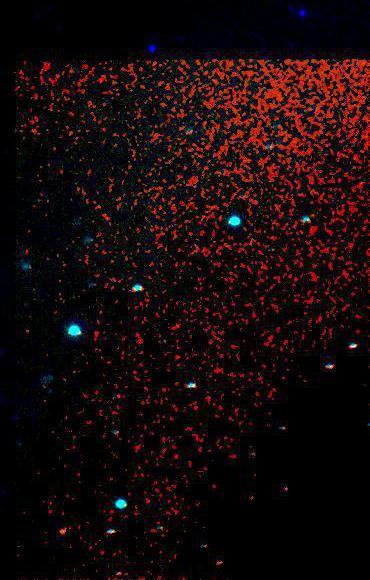star: (46, 520, 76, 550)
